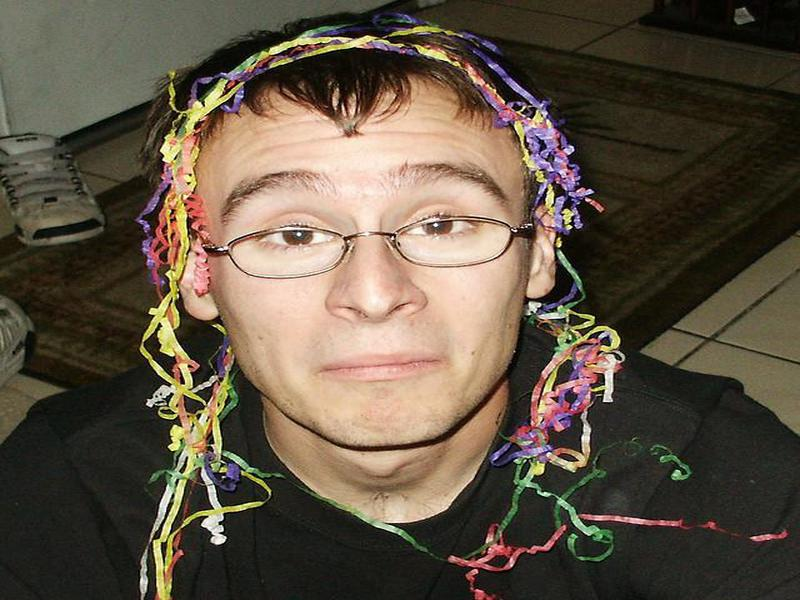person: (39, 21, 800, 597)
